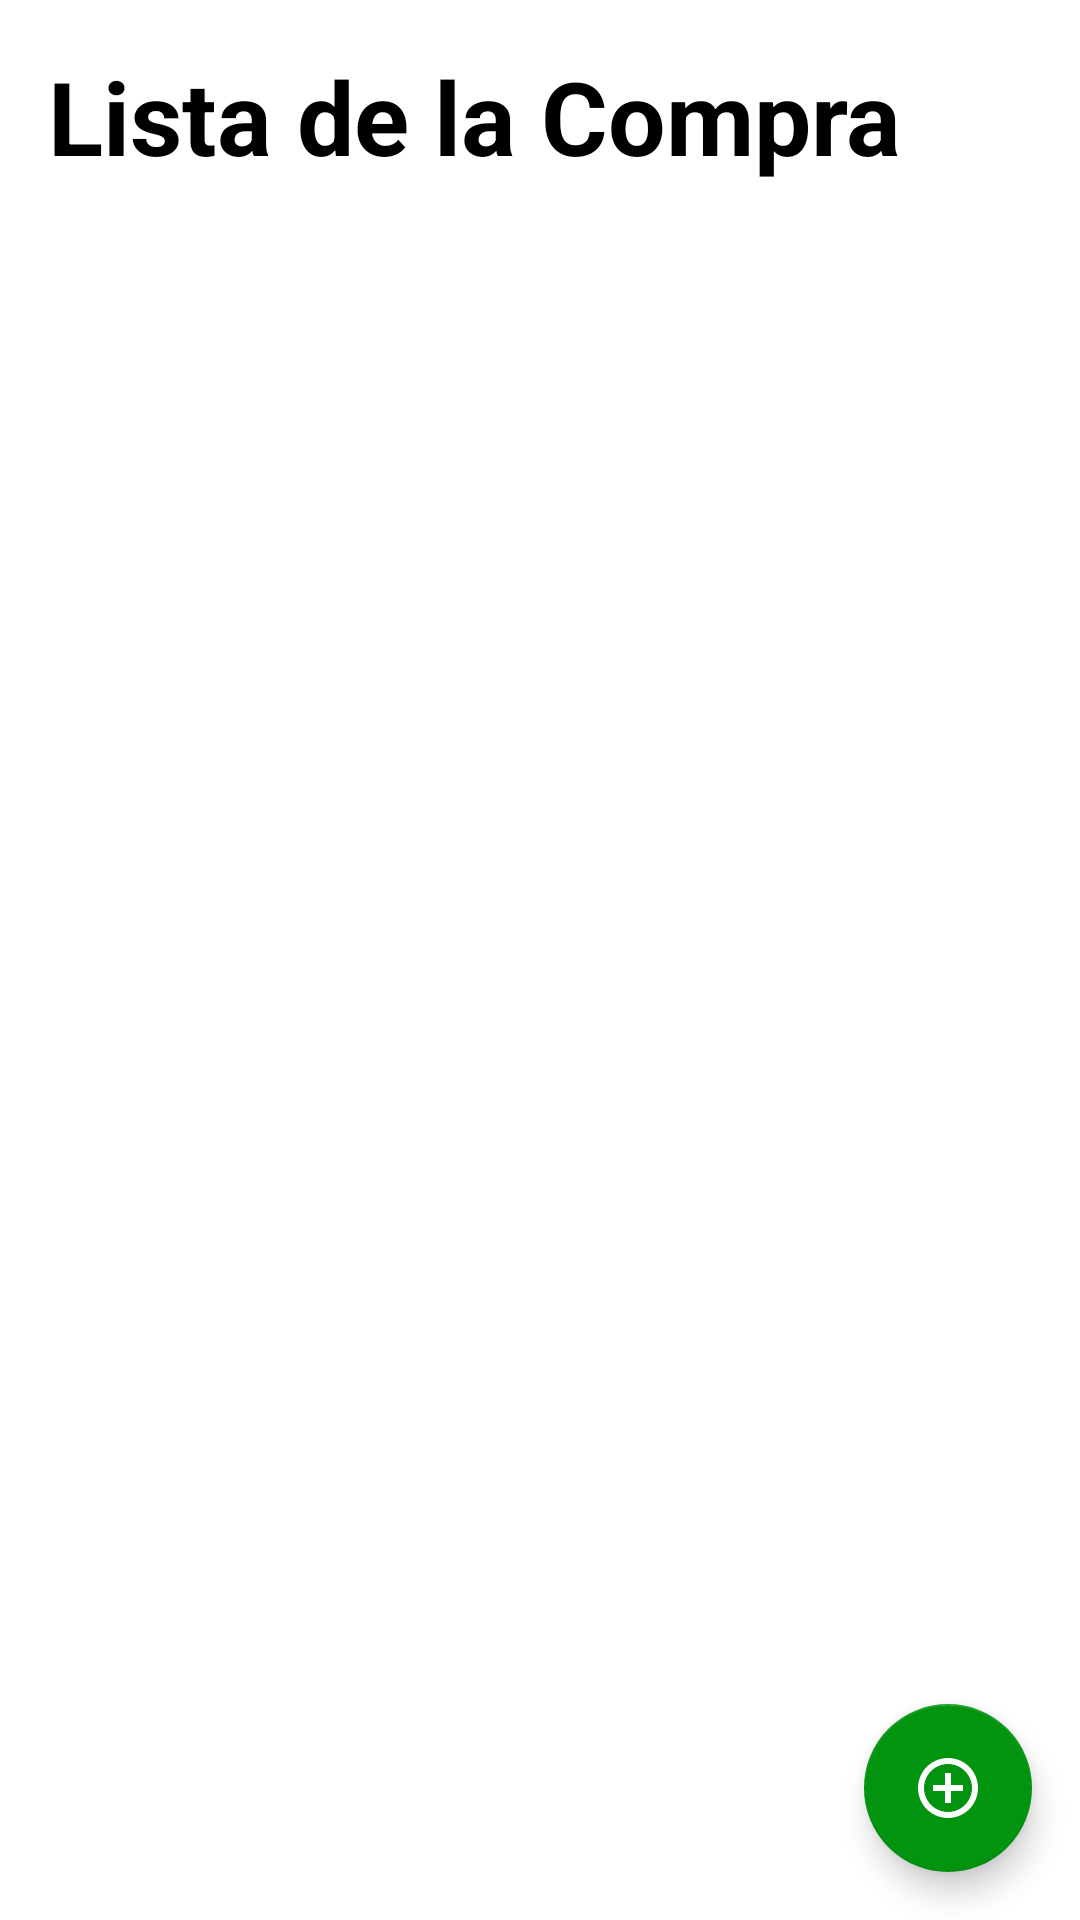

Icons on this 1080 × 1920 Android screen, each with the point to tap as point (x, y):
compra circulo fab: point (948, 1788)
